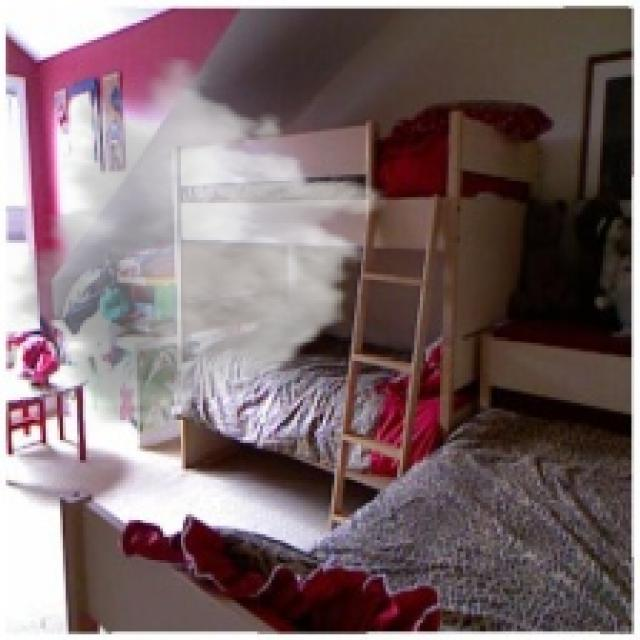smoke: (6, 54, 391, 434)
